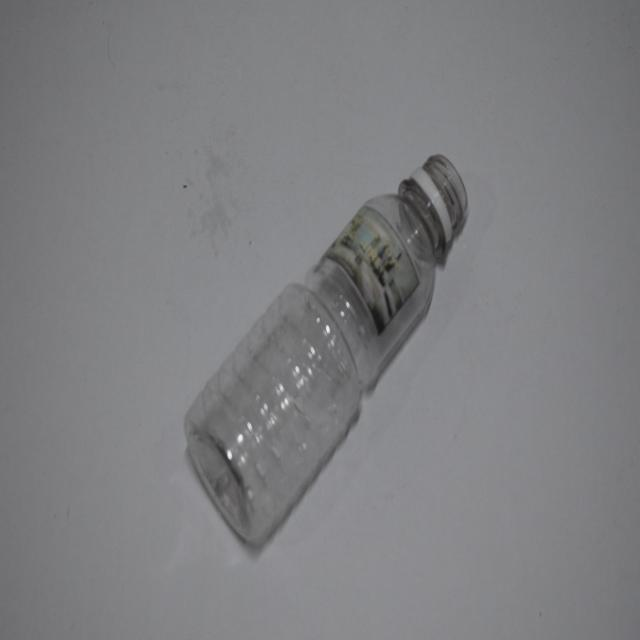empty: (185, 155, 468, 545)
